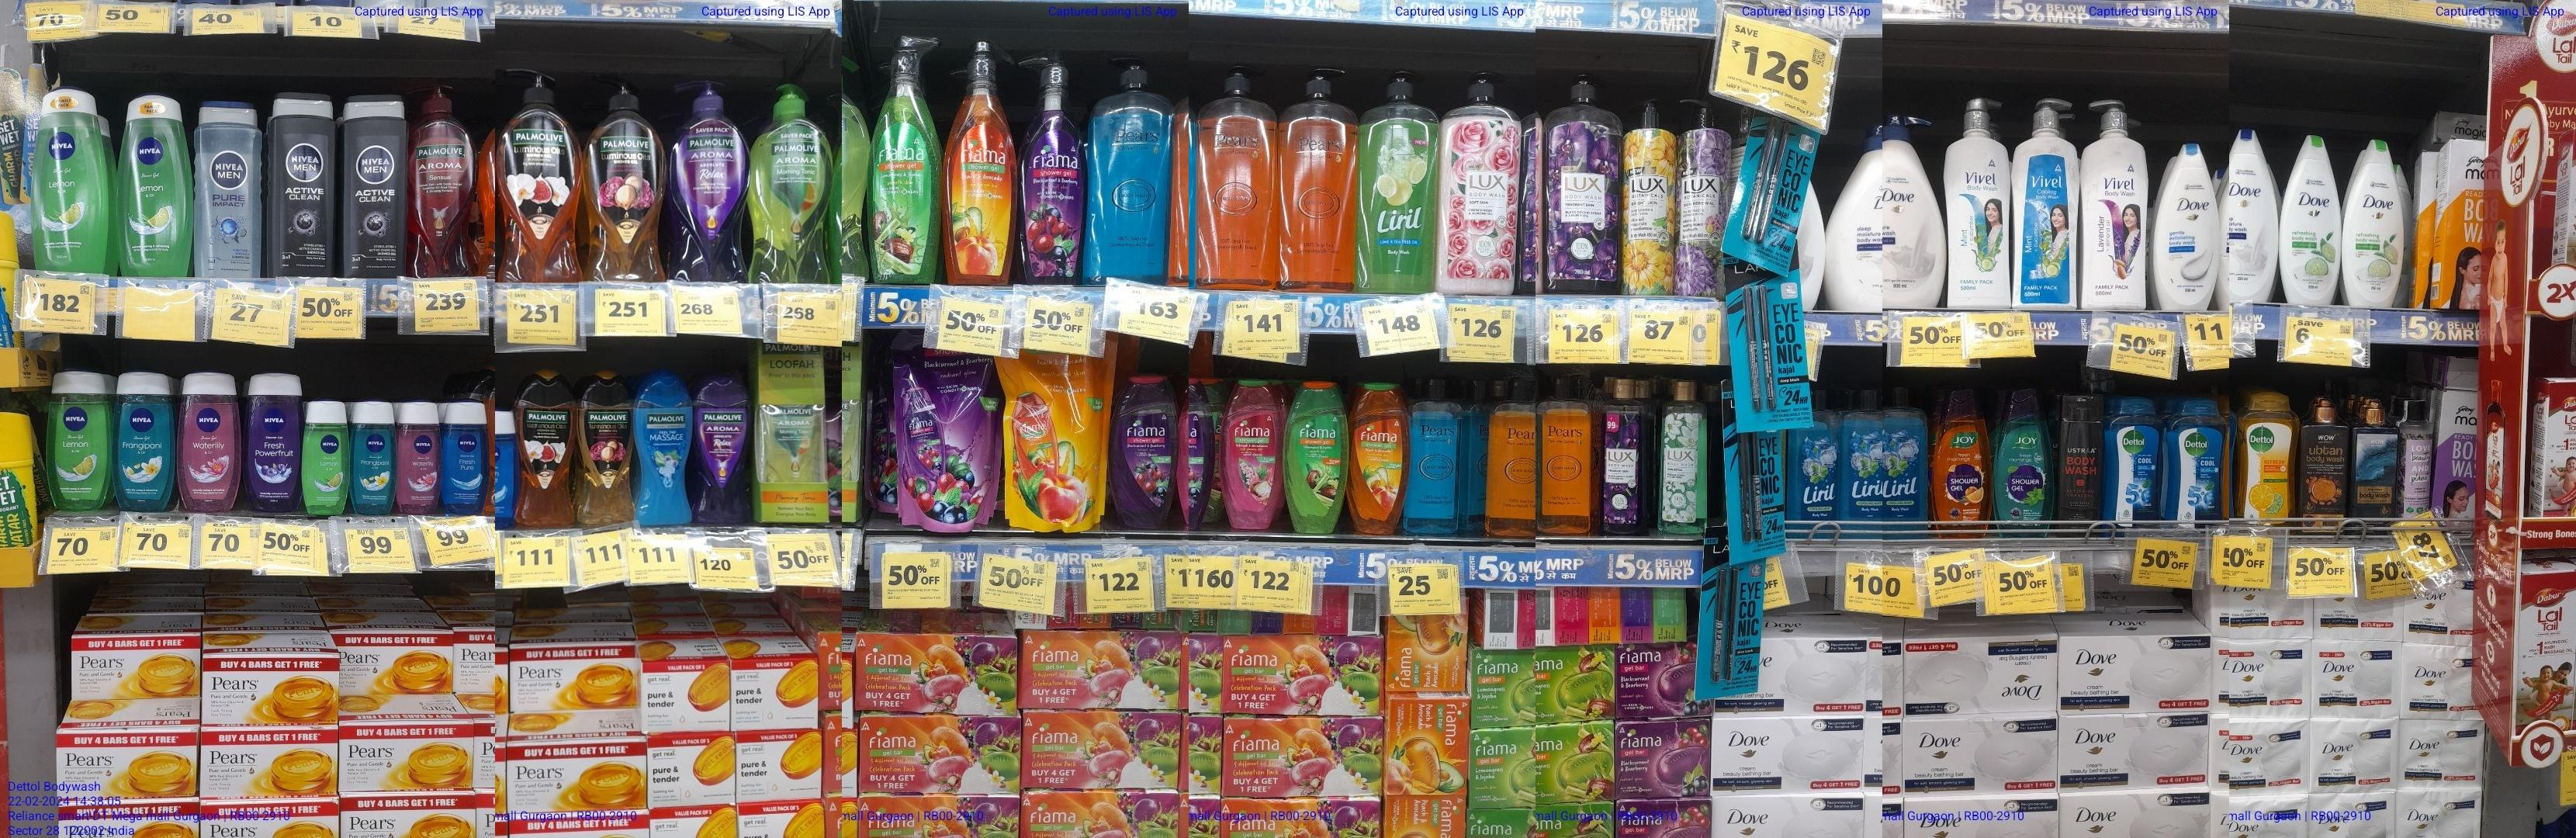Dettol_Bodywash_Cool: (2170, 396, 2228, 523), (2111, 401, 2162, 519)
Dettol_Bodywash_Refresh: (2238, 396, 2300, 523)
Dove_Deep_Moisture_Body_Wash_250ML: (2219, 118, 2272, 302)
Dove_Gentle_Exfoliating_Body_Wash_250ML: (2160, 148, 2218, 309)
Dove_Refreshing_Body_Wash_250ML: (2279, 131, 2343, 309), (2344, 135, 2405, 312)
Fiama_Shower_Gel_Lemongrass_and_Jojoba_250ML: (1285, 378, 1339, 537)
Fiama_Shower_Gel_Patchouli_and_Macadamia_250ML: (1224, 381, 1280, 527)
Fiama_Shower_Gel_Peach_and_Avocado_250ML: (1349, 383, 1403, 536)
Joy_Shower_Gel_Mandarin_and_Lemongrass_250ML: (1935, 386, 1986, 537)
Joy_Shower_Gel_Mint_and_Eucalyptus_250ML: (1999, 389, 2058, 529)
Lux_Black_Orchid_Scent_and_Juniper_Oil_Body_Wash_245ML: (1602, 375, 1648, 534)
Lux_Body_Wash_Skin_Detox_Freesia_Scent_and_Alove_Vera_245ML: (1658, 380, 1707, 537)
Nivea_Shower_Gel_Frangipani_and_Oil_250ML: (115, 368, 174, 518)
Nivea_Shower_Gel_Fresh_Powerfruit_250ML: (245, 371, 304, 513)
Nivea_Shower_Gel_Lemon_and_Oil_250ML: (117, 97, 192, 279), (38, 89, 110, 274), (44, 370, 113, 509)
Nivea_Shower_Gel_Waterlily_and_Oil_250ML: (181, 373, 240, 513)
Palmolive_Aroma_Moments_Feel_The_Massage_Shower_Gel_250ML: (634, 371, 690, 523)
Palmolive_Aroma_Relax_250ML: (693, 378, 752, 524)
Palmolive_Luminous_Oils_Invigorating_Macadamia_Oil_With_Peony_250ML: (580, 378, 632, 521)
Palmolive_Luminous_Oils_With_White_Orchid_Shower_Gel_250ML: (517, 363, 580, 527)
